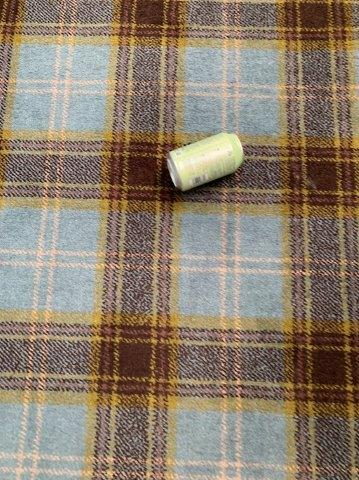kaleng: (168, 133, 243, 190)
